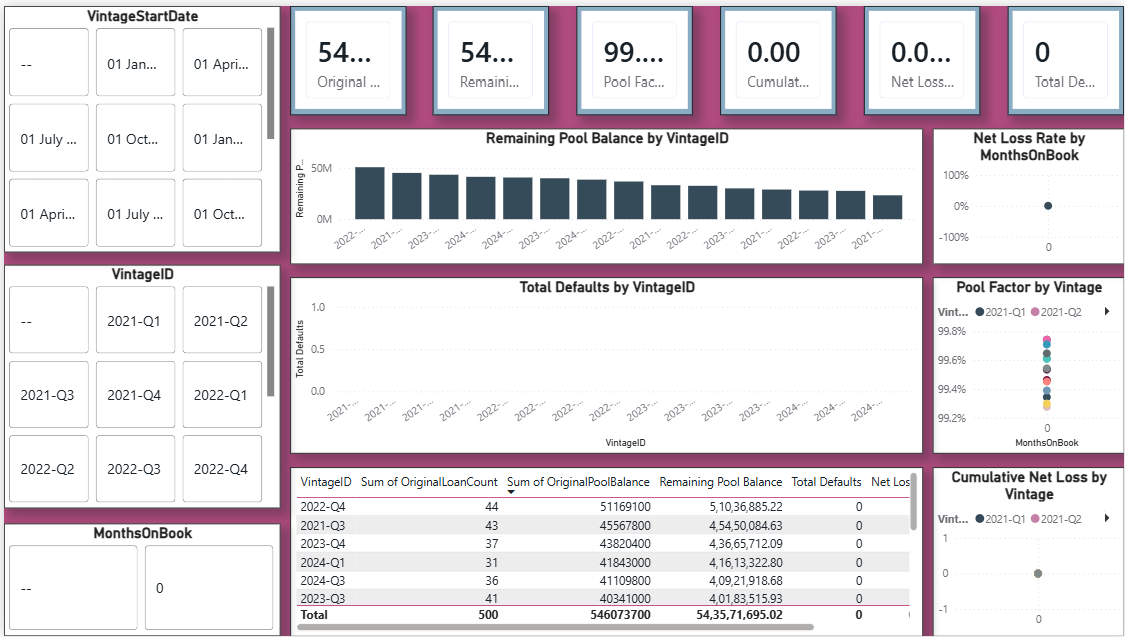

The page's visual inventory and layout, read from the dashboard file:
{"tool":"powerbi","page":{"name":"Static Pool Analysis","canvas":[1280,720],"ordinal":3},"visuals":[{"type":"cardVisual","fields":{"Data":["StaticPool.Original Pool Balance"]},"box":[326.6,0,133.1,124.9],"z":0},{"type":"cardVisual","fields":{"Data":["StaticPool.Remaining Pool Balance"]},"box":[490.7,0,133.1,124.9],"z":1000},{"type":"cardVisual","fields":{"Data":["StaticPool.Pool Factor 1"]},"box":[654.8,0,133.1,124.9],"z":2000},{"type":"cardVisual","fields":{"Data":["StaticPool.Cumulative Net Loss"]},"box":[818.9,0,133.1,124.9],"z":3000},{"type":"cardVisual","fields":{"Data":["StaticPool.Net Loss Rate"]},"box":[983.1,0,133.1,124.9],"z":4000},{"type":"cardVisual","fields":{"Data":["StaticPool.Total Defaults"]},"box":[1146.9,0,133.1,124.9],"z":5000},{"type":"lineChart","title":"Pool Factor by Vintage","fields":{"Category":["StaticPool.MonthsOnBook"],"Y":["StaticPool.Pool Factor 1"],"Series":["StaticPool.VintageID"]},"box":[1060.7,310.1,219.6,201.7],"z":6000},{"type":"lineChart","title":"Cumulative Net Loss by Vintage","fields":{"Category":["StaticPool.MonthsOnBook"],"Y":["StaticPool.Cumulative Net Loss"],"Series":["StaticPool.VintageID"]},"box":[1060.7,526.9,219.6,193.5],"z":7000},{"type":"clusteredColumnChart","fields":{"Category":["StaticPool.VintageID"],"Y":["StaticPool.Remaining Pool Balance"]},"box":[326.6,140,723.2,155.1],"z":8000},{"type":"columnChart","fields":{"Category":["StaticPool.VintageID"],"Y":["StaticPool.Total Defaults"]},"box":[326.6,310.1,723.2,201.7],"z":9000},{"type":"lineChart","fields":{"Category":["StaticPool.MonthsOnBook"],"Y":["StaticPool.Net Loss Rate"]},"box":[1060.7,140,219.6,155.1],"z":10000},{"type":"tableEx","fields":{"Values":["StaticPool.VintageID","Sum(StaticPool.OriginalLoanCount)","Sum(StaticPool.OriginalPoolBalance)","StaticPool.Remaining Pool Balance","StaticPool.Total Defaults","StaticPool.Net Loss Rate","StaticPool.Pool Factor 1"]},"box":[326.6,526.9,723.2,193.5],"z":11000},{"type":"advancedSlicerVisual","fields":{"Values":["StaticPool.VintageID"]},"box":[0,295,315.6,278.6],"z":12000},{"type":"advancedSlicerVisual","fields":{"Values":["StaticPool.VintageStartDate"]},"box":[0,0,315.6,281.3],"z":13000},{"type":"advancedSlicerVisual","fields":{"Values":["StaticPool.MonthsOnBook"]},"box":[0,591.4,315.6,129],"z":14000}]}

Visuals, with their boxes in screenshot pixels (x1, y1, x2, y2), scaled from the page's 1280x720 canvas onto the 1125x637 screenshot:
cardVisual - StaticPool.Original Pool Balance: <box>287,0,404,111</box>
cardVisual - StaticPool.Remaining Pool Balance: <box>431,0,548,111</box>
cardVisual - StaticPool.Pool Factor 1: <box>576,0,692,111</box>
cardVisual - StaticPool.Cumulative Net Loss: <box>720,0,837,111</box>
cardVisual - StaticPool.Net Loss Rate: <box>864,0,981,111</box>
cardVisual - StaticPool.Total Defaults: <box>1008,0,1124,111</box>
"Pool Factor by Vintage" lineChart: <box>932,274,1124,453</box>
"Cumulative Net Loss by Vintage" lineChart: <box>932,466,1124,636</box>
clusteredColumnChart - StaticPool.VintageID x StaticPool.Remaining Pool Balance: <box>287,124,923,261</box>
columnChart - StaticPool.VintageID x StaticPool.Total Defaults: <box>287,274,923,453</box>
lineChart - StaticPool.MonthsOnBook x StaticPool.Net Loss Rate: <box>932,124,1124,261</box>
tableEx - StaticPool.VintageID x Sum(StaticPool.OriginalLoanCount): <box>287,466,923,636</box>
advancedSlicerVisual - StaticPool.VintageID: <box>0,261,277,507</box>
advancedSlicerVisual - StaticPool.VintageStartDate: <box>0,0,277,249</box>
advancedSlicerVisual - StaticPool.MonthsOnBook: <box>0,523,277,636</box>
